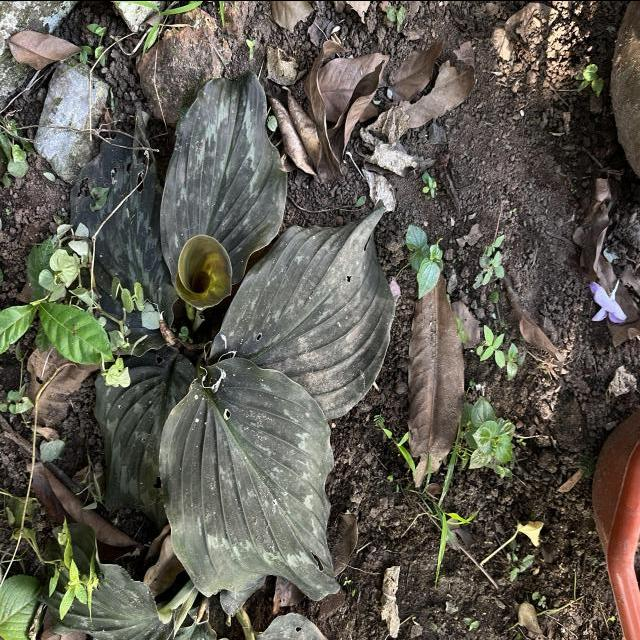Kaempferia galanga linn: (156, 353, 343, 603), (205, 196, 396, 421), (158, 67, 290, 286)
